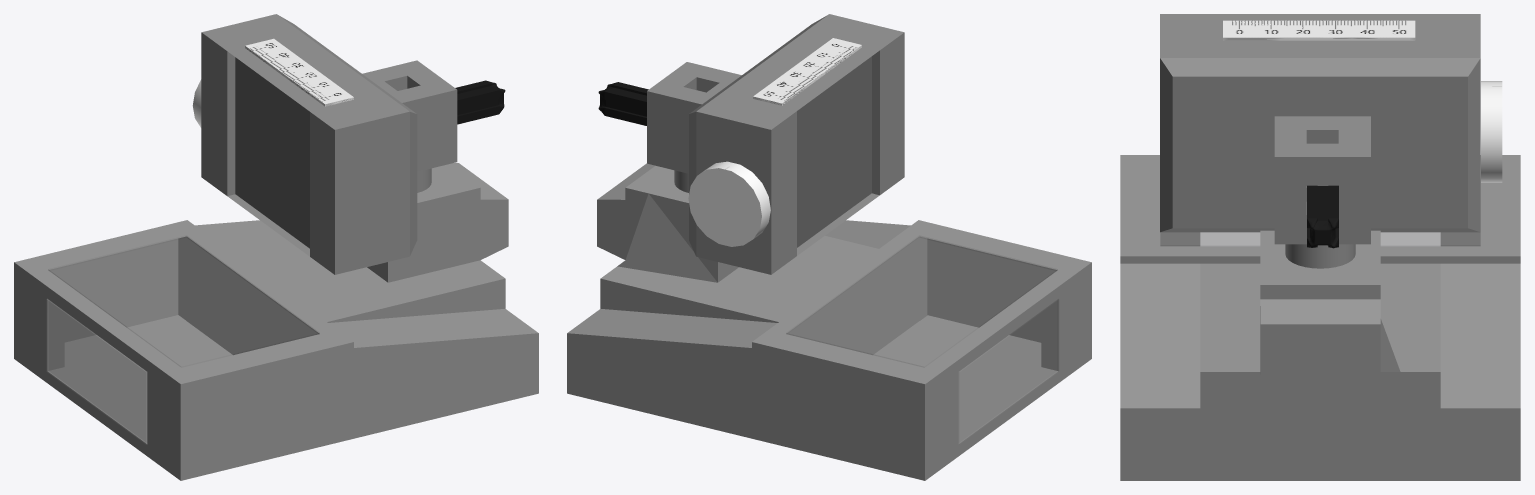
The model's file is 底座固定不圆滑.obj.
The picture shows the model from 3 angles, left to right: view 1: azimuth 30°, elevation 25°; view 2: azimuth 150°, elevation 25°; view 3: azimuth 270°, elevation 25°; orthographic projection. The views are drawn at different scales.
Parts seen in each view (by area): view 1: object 8, object 5, object 9, object 11, object 10, object 2, object 6, object 3; view 2: object 8, object 5, object 9, object 11, object 10, object 7, object 2, object 6, object 3; view 3: object 8, object 5, object 2, object 6, object 9, object 7, object 3, object 10, object 1.
Boxes of the visible parts, x1=… form: object 8: x1=14, y1=163, x2=538, y2=480; object 5: x1=201, y1=14, x2=417, y2=274; object 9: x1=48, y1=235, x2=319, y2=367; object 11: x1=235, y1=57, x2=309, y2=248; object 10: x1=46, y1=299, x2=146, y2=444; object 2: x1=362, y1=60, x2=457, y2=171; object 6: x1=245, y1=38, x2=353, y2=106; object 3: x1=455, y1=80, x2=505, y2=124; object 8: x1=567, y1=163, x2=1091, y2=480; object 5: x1=689, y1=14, x2=904, y2=274; object 9: x1=786, y1=235, x2=1057, y2=367; object 11: x1=797, y1=56, x2=871, y2=247; object 10: x1=959, y1=299, x2=1059, y2=444; object 7: x1=688, y1=161, x2=770, y2=246; object 2: x1=647, y1=62, x2=741, y2=173; object 6: x1=753, y1=38, x2=861, y2=105; object 3: x1=598, y1=82, x2=648, y2=125; object 8: x1=1120, y1=155, x2=1520, y2=480; object 5: x1=1160, y1=14, x2=1480, y2=232; object 2: x1=1274, y1=116, x2=1370, y2=244; object 6: x1=1223, y1=20, x2=1415, y2=40; object 9: x1=1160, y1=232, x2=1480, y2=245; object 7: x1=1481, y1=81, x2=1502, y2=182; object 3: x1=1307, y1=185, x2=1338, y2=248; object 10: x1=1200, y1=232, x2=1440, y2=245; object 1: x1=1285, y1=244, x2=1355, y2=268.
Size of the model in its own units: 351 by 248 by 250.
